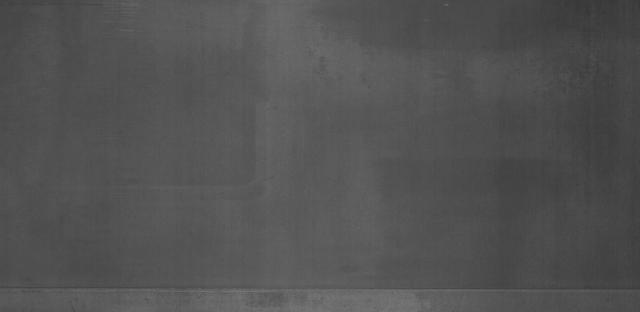welding_line: (2, 282, 640, 298)
